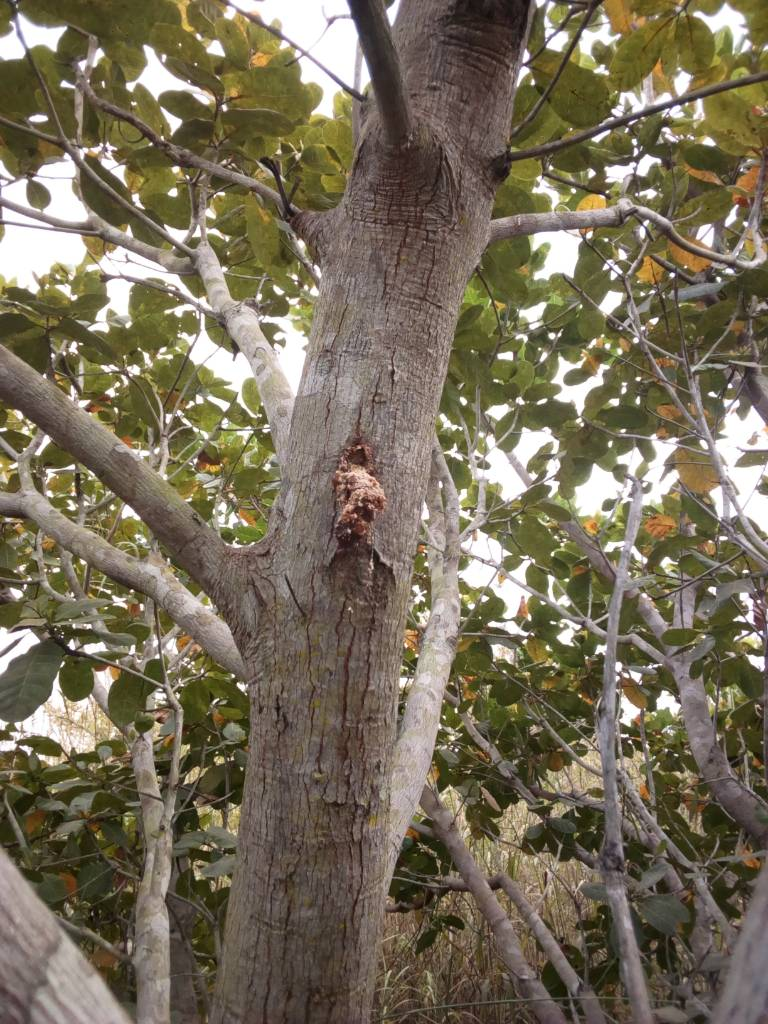Apate terebrans: (302, 416, 441, 580)
